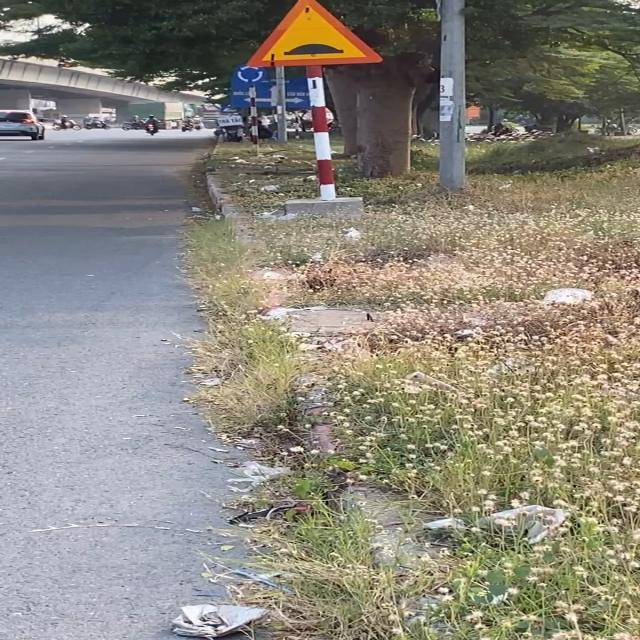221-duong-go-ghe: (246, 0, 386, 68)
303-noi-giao-nhau-chay-theo-vong-xuyen: (236, 64, 268, 84)
